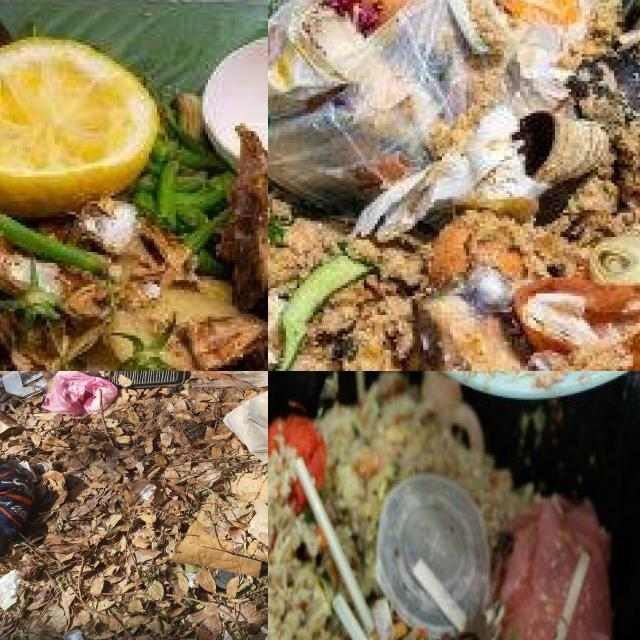Garbage: (268, 61, 640, 371), (0, 0, 268, 371), (268, 371, 611, 640), (268, 0, 598, 208)
Plastic: (376, 475, 489, 637)
Plastic_Bag: (492, 495, 610, 640)
Plastic_Straw: (296, 456, 374, 633), (412, 558, 467, 632), (553, 550, 590, 640), (333, 593, 367, 640), (372, 597, 395, 640), (355, 371, 366, 402)
